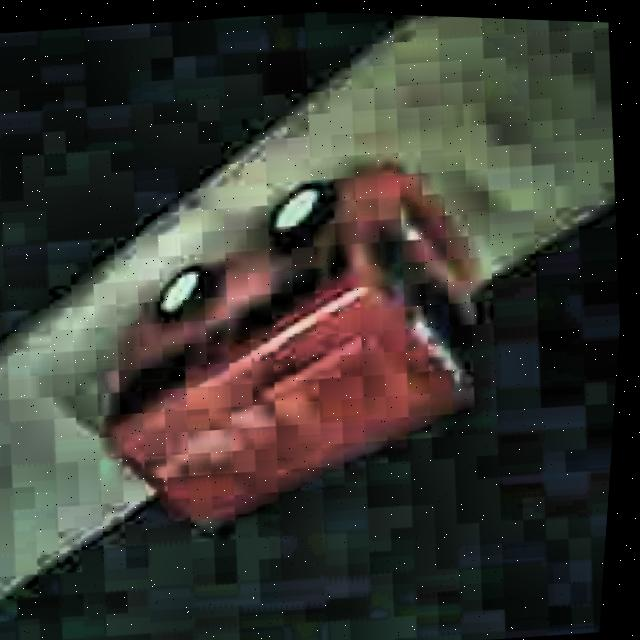bus: (68, 143, 505, 548)
